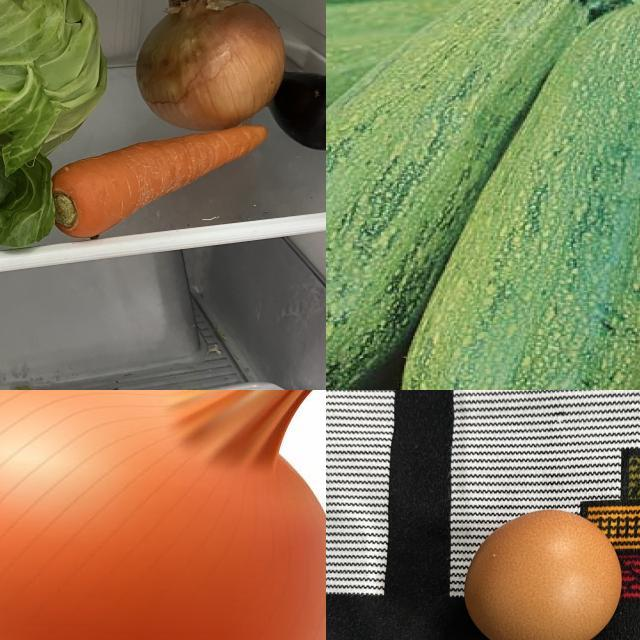cabbage: (1, 1, 114, 255)
carrot: (51, 125, 271, 243)
egg: (465, 509, 628, 640)
eggplant: (269, 71, 327, 155)
onion: (1, 391, 327, 640), (134, 1, 289, 137)
zucchini: (327, 1, 640, 391), (413, 9, 640, 391)
